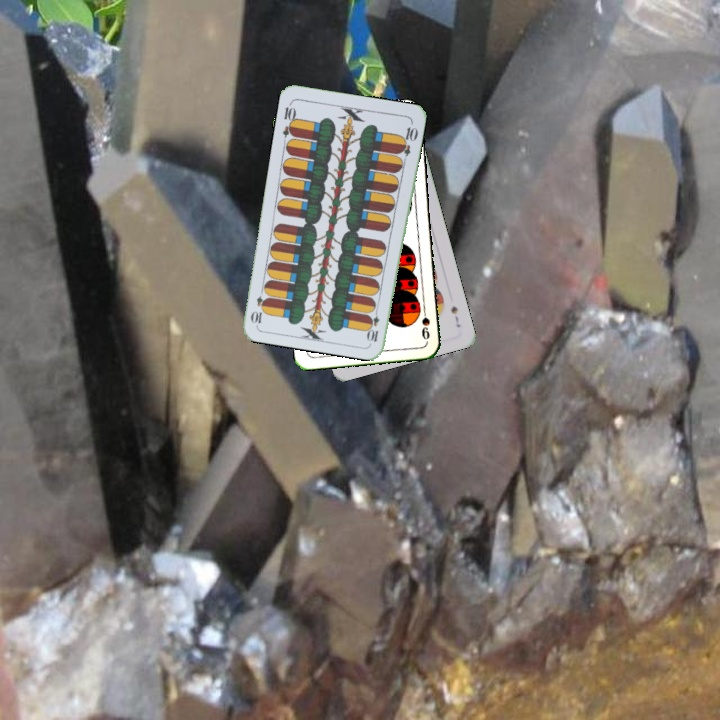E10: (279, 99, 299, 139), (365, 304, 382, 344)
S7: (447, 302, 463, 330)
S9: (417, 302, 432, 342)
